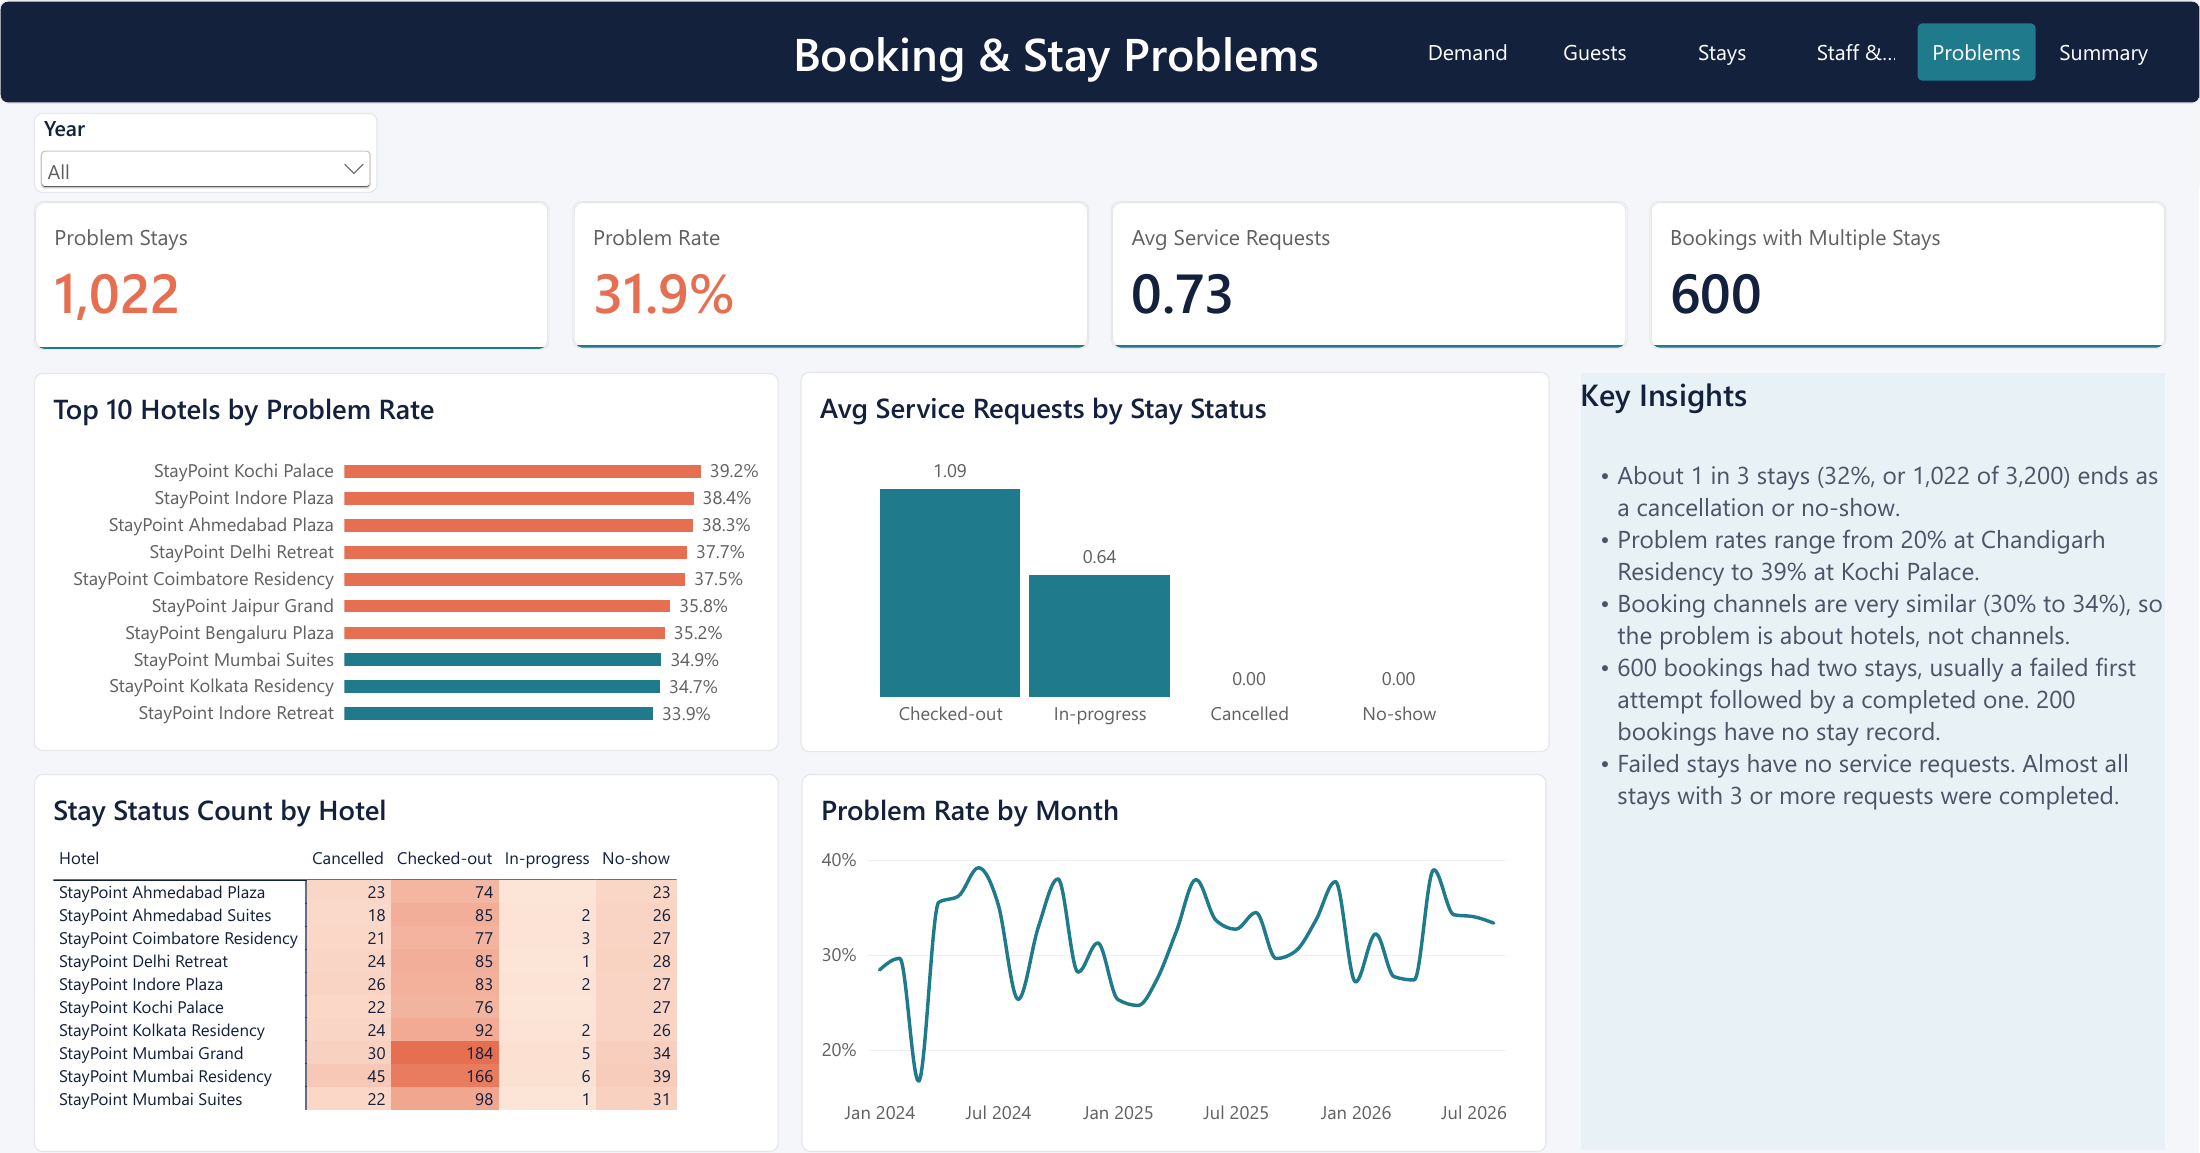

The dashboard page shown, as its layout file describes it:
{"tool":"powerbi","page":{"name":"Problems","canvas":[1920,1080],"ordinal":4},"visuals":[{"type":"shape","box":[0,0,1920.7,90],"z":0},{"type":"textbox","title":"Booking & Stay Problems","box":[31,19.1,1782.3,52.5],"z":1000},{"type":"pageNavigator","box":[1230,20,660,50],"z":2000},{"type":"cardVisual","fields":{"Data":["_Measures.Problem Stays"]},"box":[30,175,450,130],"z":3000},{"type":"cardVisual","fields":{"Data":["_Measures.Problem Rate"]},"box":[500,175,450.9,128.8],"z":4000},{"type":"cardVisual","fields":{"Data":["_Measures.Avg Service Requests"]},"box":[970,175,450.9,128.8],"z":5000},{"type":"cardVisual","fields":{"Data":["_Measures.Bookings with Multiple Stays"]},"box":[1440,175,450.9,128.8],"z":6000},{"type":"clusteredBarChart","title":"Top 10 Hotels by Problem Rate","fields":{"Category":["hotels.hotel_name"],"Y":["_Measures.Problem Rate"]},"box":[30,325,650,330],"z":7000},{"type":"clusteredColumnChart","title":"Avg Service Requests by Stay Status","fields":{"Category":["stays.status"],"Y":["_Measures.Avg Service Requests"]},"box":[699.1,324.5,653.7,331.6],"z":8000},{"type":"pivotTable","title":"Stay Status Count by Hotel","fields":{"Columns":["stays.status"],"Rows":["hotels.hotel_name"],"Values":["_Measures.Total Stays"]},"box":[30,675,650,330],"z":9000},{"type":"lineChart","title":"Problem Rate by Month","fields":{"Category":["date_table.Month Start"],"Y":["_Measures.Problem Rate"]},"box":[700,675,650,330],"z":10000},{"type":"slicer","fields":{"Values":["date_table.Year"]},"box":[30,98,300,70],"z":11000},{"type":"textbox","title":"Key Insights","box":[1380,325,510,678],"z":12000}]}

Visuals, with their boxes on the page's 1920x1080 design canvas (x1, y1, x2, y2). These are canvas units, not pixel positions in the 2200x1153 screenshot, which may show the page scaled, cropped or inside an application window:
shape: box(0, 0, 1921, 90)
"Booking & Stay Problems" textbox: box(31, 19, 1813, 72)
pageNavigator: box(1230, 20, 1890, 70)
cardVisual - _Measures.Problem Stays: box(30, 175, 480, 305)
cardVisual - _Measures.Problem Rate: box(500, 175, 951, 304)
cardVisual - _Measures.Avg Service Requests: box(970, 175, 1421, 304)
cardVisual - _Measures.Bookings with Multiple Stays: box(1440, 175, 1891, 304)
"Top 10 Hotels by Problem Rate" clusteredBarChart: box(30, 325, 680, 655)
"Avg Service Requests by Stay Status" clusteredColumnChart: box(699, 324, 1353, 656)
"Stay Status Count by Hotel" pivotTable: box(30, 675, 680, 1005)
"Problem Rate by Month" lineChart: box(700, 675, 1350, 1005)
slicer - date_table.Year: box(30, 98, 330, 168)
"Key Insights" textbox: box(1380, 325, 1890, 1003)
